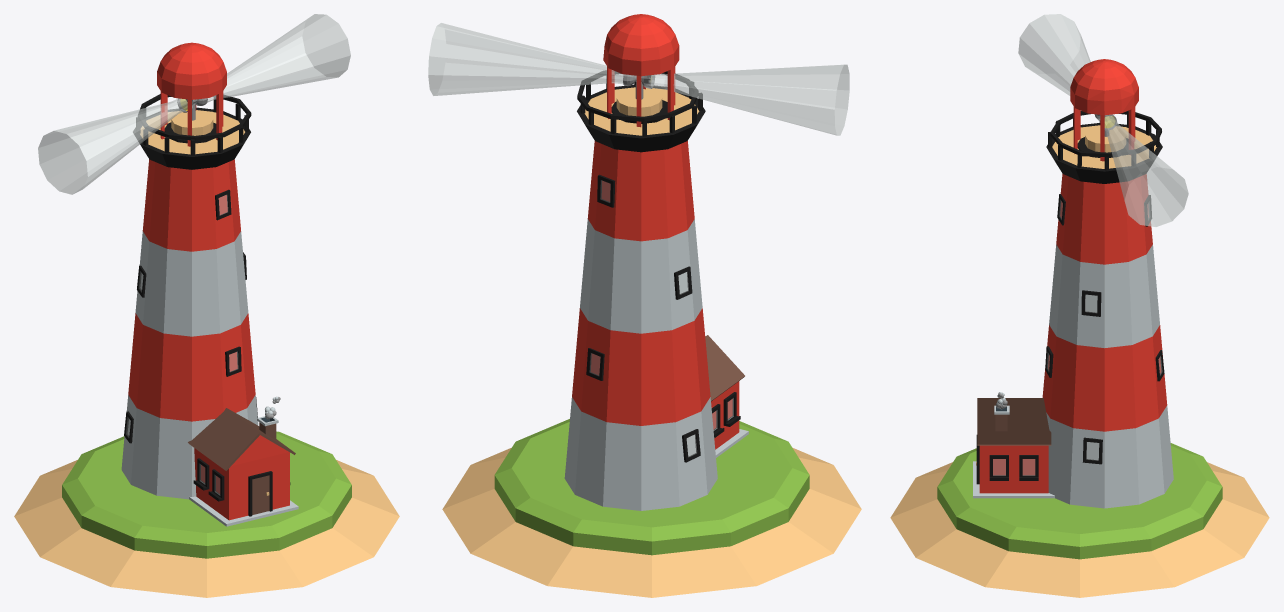
File: lighthouse.glb
3 renders of one model, left to right at view 1: azimuth 30°, elevation 25°; view 2: azimuth 150°, elevation 25°; view 3: azimuth 270°, elevation 25°, orthographic. The views are drawn at different scales.
Visible parts, largest first — view 1: Node; view 2: Node; view 3: Node.
Part boxes in pixels (x1,y1,x2,y2): Node: [14, 14, 399, 597]; Node: [428, 14, 861, 597]; Node: [890, 14, 1269, 597].
Bounding box in the file's own units: 1.11 × 1.46 × 1.1.
